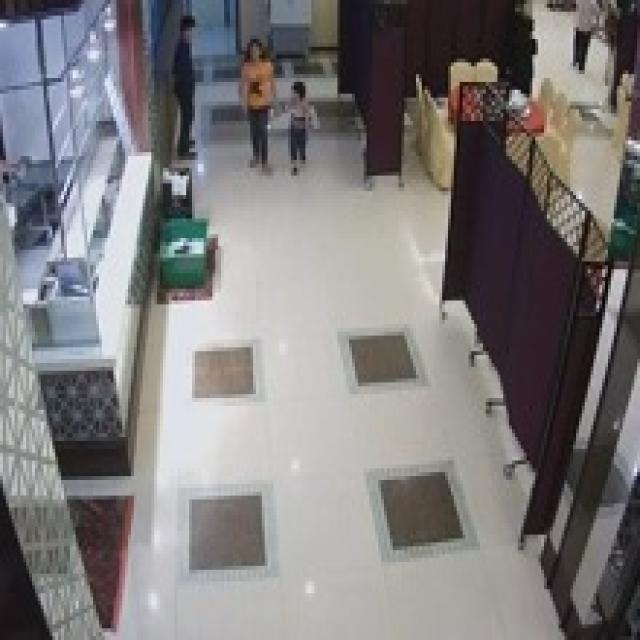normal: (157, 9, 214, 166), (243, 34, 288, 165), (283, 63, 322, 168)
